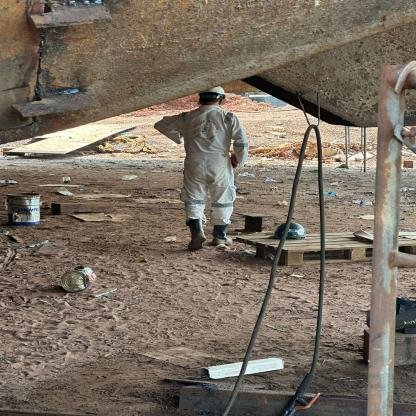bota: (184, 218, 210, 251), (212, 221, 232, 246)
